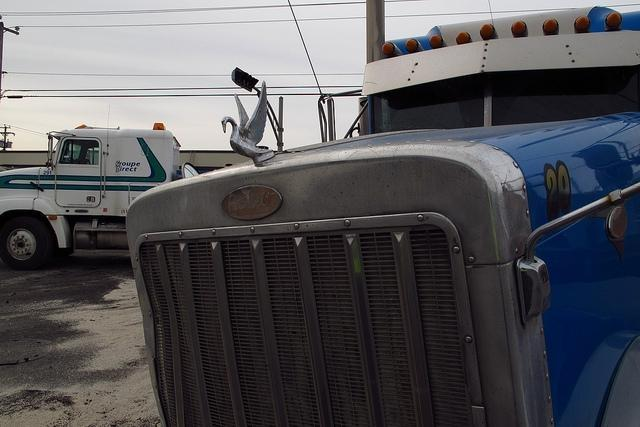truck: (126, 5, 640, 420), (0, 122, 246, 276)
